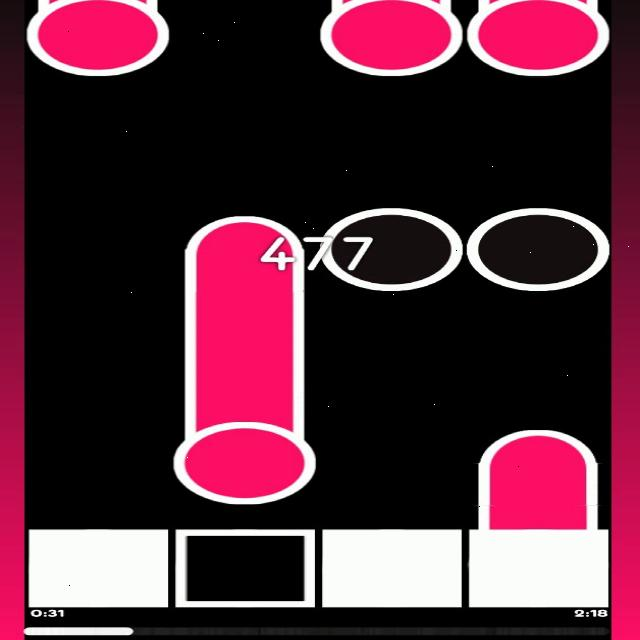end_hold: (179, 203, 309, 270), (471, 410, 602, 476)
note: (319, 207, 466, 290), (470, 208, 610, 294)
start_hold: (176, 406, 318, 507), (26, 0, 169, 80), (470, 0, 609, 80), (322, 0, 463, 77)
